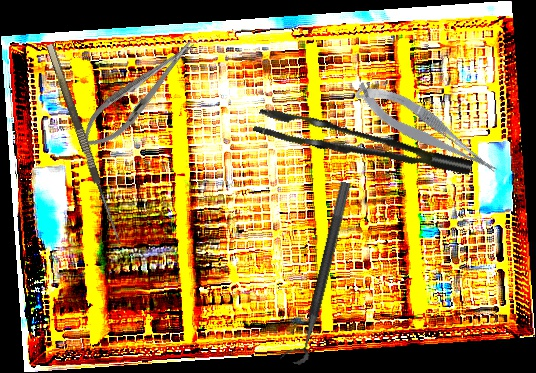Fixation Ring: (279, 177, 353, 367)
Hook Surgical: (46, 39, 133, 247)
Micro Scissor: (350, 68, 502, 193)
Needle Holder: (69, 29, 206, 161)
Tissue Forceps: (252, 87, 474, 205)
